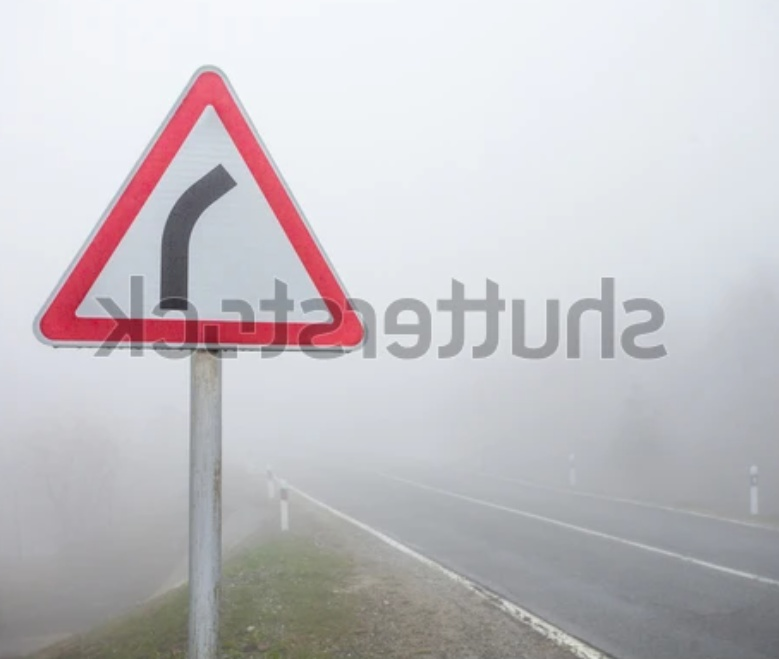Turn right: (28, 47, 368, 373)
